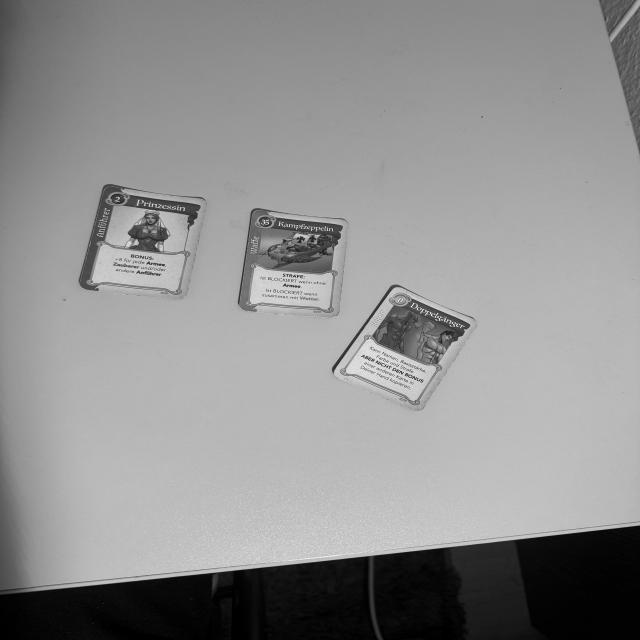Doppelganger: (331, 281, 485, 412)
Princess: (75, 182, 211, 301)
War Dirigable: (236, 208, 349, 317)
